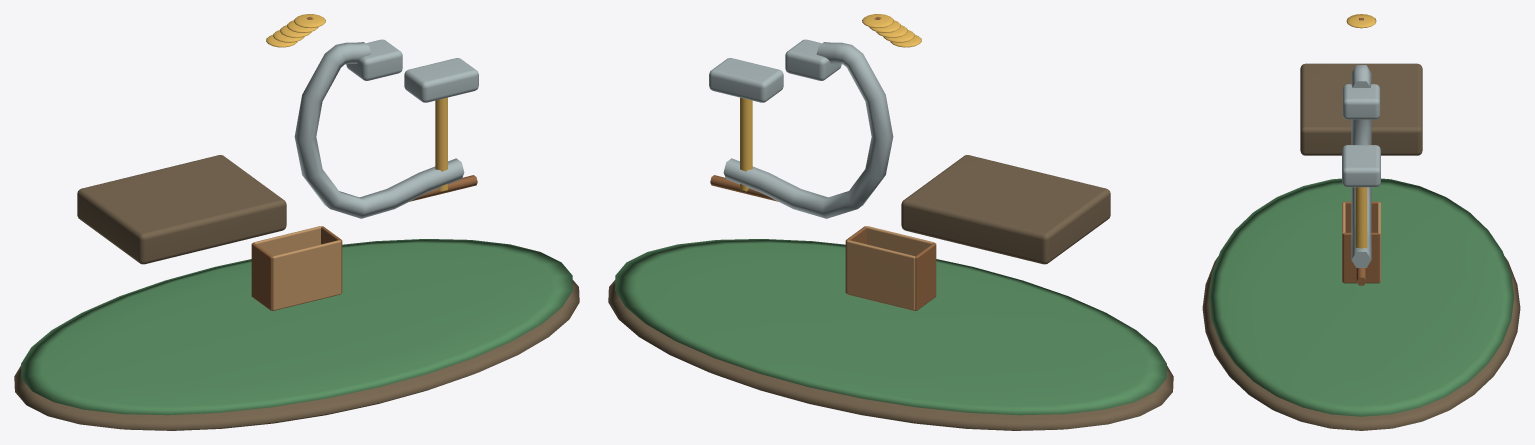
File: complete-first-piece-of-earth.glb
3 views of the same model, side by side, from view 1: azimuth 30°, elevation 25°; view 2: azimuth 150°, elevation 25°; view 3: azimuth 270°, elevation 25° (orthographic). The views are drawn at different scales.
Visible parts, largest first — view 1: complete-first-piece-of-earth_surface_01, complete-first-piece-of-earth_surface_00, complete-first-piece-of-earth_surface_02, complete-first-piece-of-earth_surface_05, complete-first-piece-of-earth_surface_04, complete-first-piece-of-earth_surface_03; view 2: complete-first-piece-of-earth_surface_01, complete-first-piece-of-earth_surface_00, complete-first-piece-of-earth_surface_02, complete-first-piece-of-earth_surface_05, complete-first-piece-of-earth_surface_04, complete-first-piece-of-earth_surface_03; view 3: complete-first-piece-of-earth_surface_01, complete-first-piece-of-earth_surface_00, complete-first-piece-of-earth_surface_02, complete-first-piece-of-earth_surface_04, complete-first-piece-of-earth_surface_03, complete-first-piece-of-earth_surface_05.
Boxes of the visible parts, bbox=[...] form: complete-first-piece-of-earth_surface_01: bbox=[21, 239, 572, 415]; complete-first-piece-of-earth_surface_00: bbox=[14, 155, 579, 430]; complete-first-piece-of-earth_surface_02: bbox=[294, 39, 478, 218]; complete-first-piece-of-earth_surface_05: bbox=[253, 226, 341, 310]; complete-first-piece-of-earth_surface_04: bbox=[251, 17, 477, 310]; complete-first-piece-of-earth_surface_03: bbox=[266, 14, 447, 191]; complete-first-piece-of-earth_surface_01: bbox=[615, 239, 1166, 415]; complete-first-piece-of-earth_surface_00: bbox=[608, 155, 1173, 430]; complete-first-piece-of-earth_surface_02: bbox=[709, 39, 893, 218]; complete-first-piece-of-earth_surface_05: bbox=[846, 226, 934, 310]; complete-first-piece-of-earth_surface_04: bbox=[710, 17, 936, 310]; complete-first-piece-of-earth_surface_03: bbox=[740, 14, 921, 191]; complete-first-piece-of-earth_surface_01: bbox=[1209, 178, 1513, 416]; complete-first-piece-of-earth_surface_00: bbox=[1202, 63, 1520, 430]; complete-first-piece-of-earth_surface_02: bbox=[1342, 65, 1380, 267]; complete-first-piece-of-earth_surface_04: bbox=[1343, 18, 1379, 285]; complete-first-piece-of-earth_surface_03: bbox=[1346, 14, 1376, 267]; complete-first-piece-of-earth_surface_05: bbox=[1342, 202, 1380, 282].
Size of the model in its own units: 4.56 by 2.69 by 2.5.
